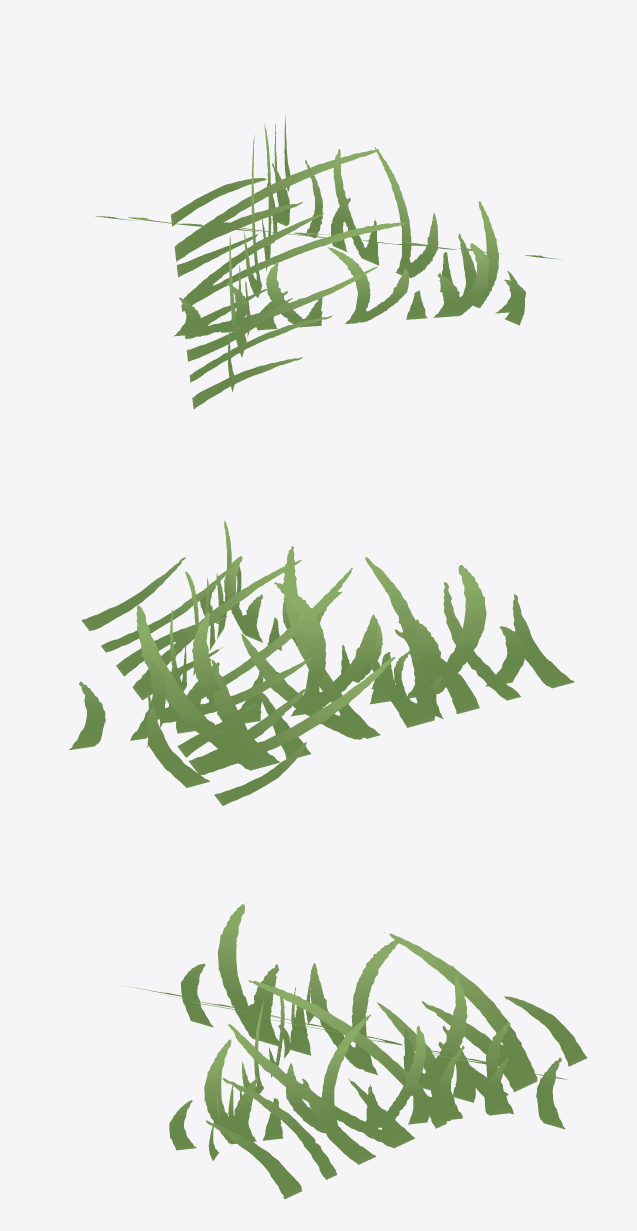
Rendered from V_Grass12.fbx.
3 views of the same model, one above another, from view 1: azimuth 30°, elevation 25°; view 2: azimuth 150°, elevation 25°; view 3: azimuth 270°, elevation 25° (orthographic). The views are drawn at different scales.
Visible parts, largest first — view 1: TW101_grass03; view 2: TW101_grass03; view 3: TW101_grass03.
Boxes of the visible parts, x1,y1,x2,y2 form: TW101_grass03: (95, 115, 561, 408); TW101_grass03: (69, 520, 574, 805); TW101_grass03: (122, 903, 587, 1198).
Bounding box in the file's own units: 0.6576 × 0.2011 × 0.7053.
